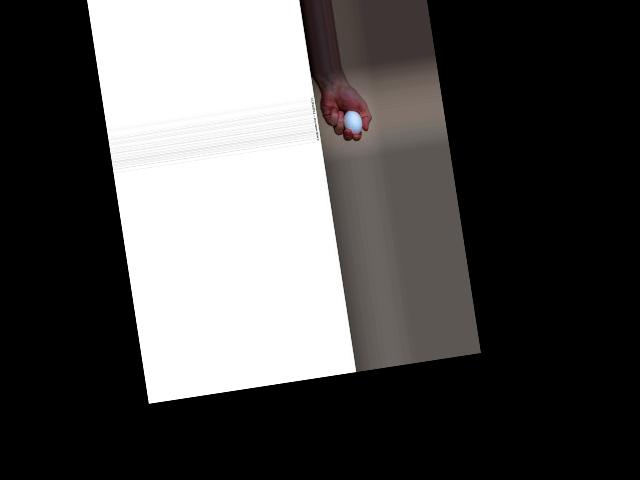egg: (342, 108, 363, 135)
